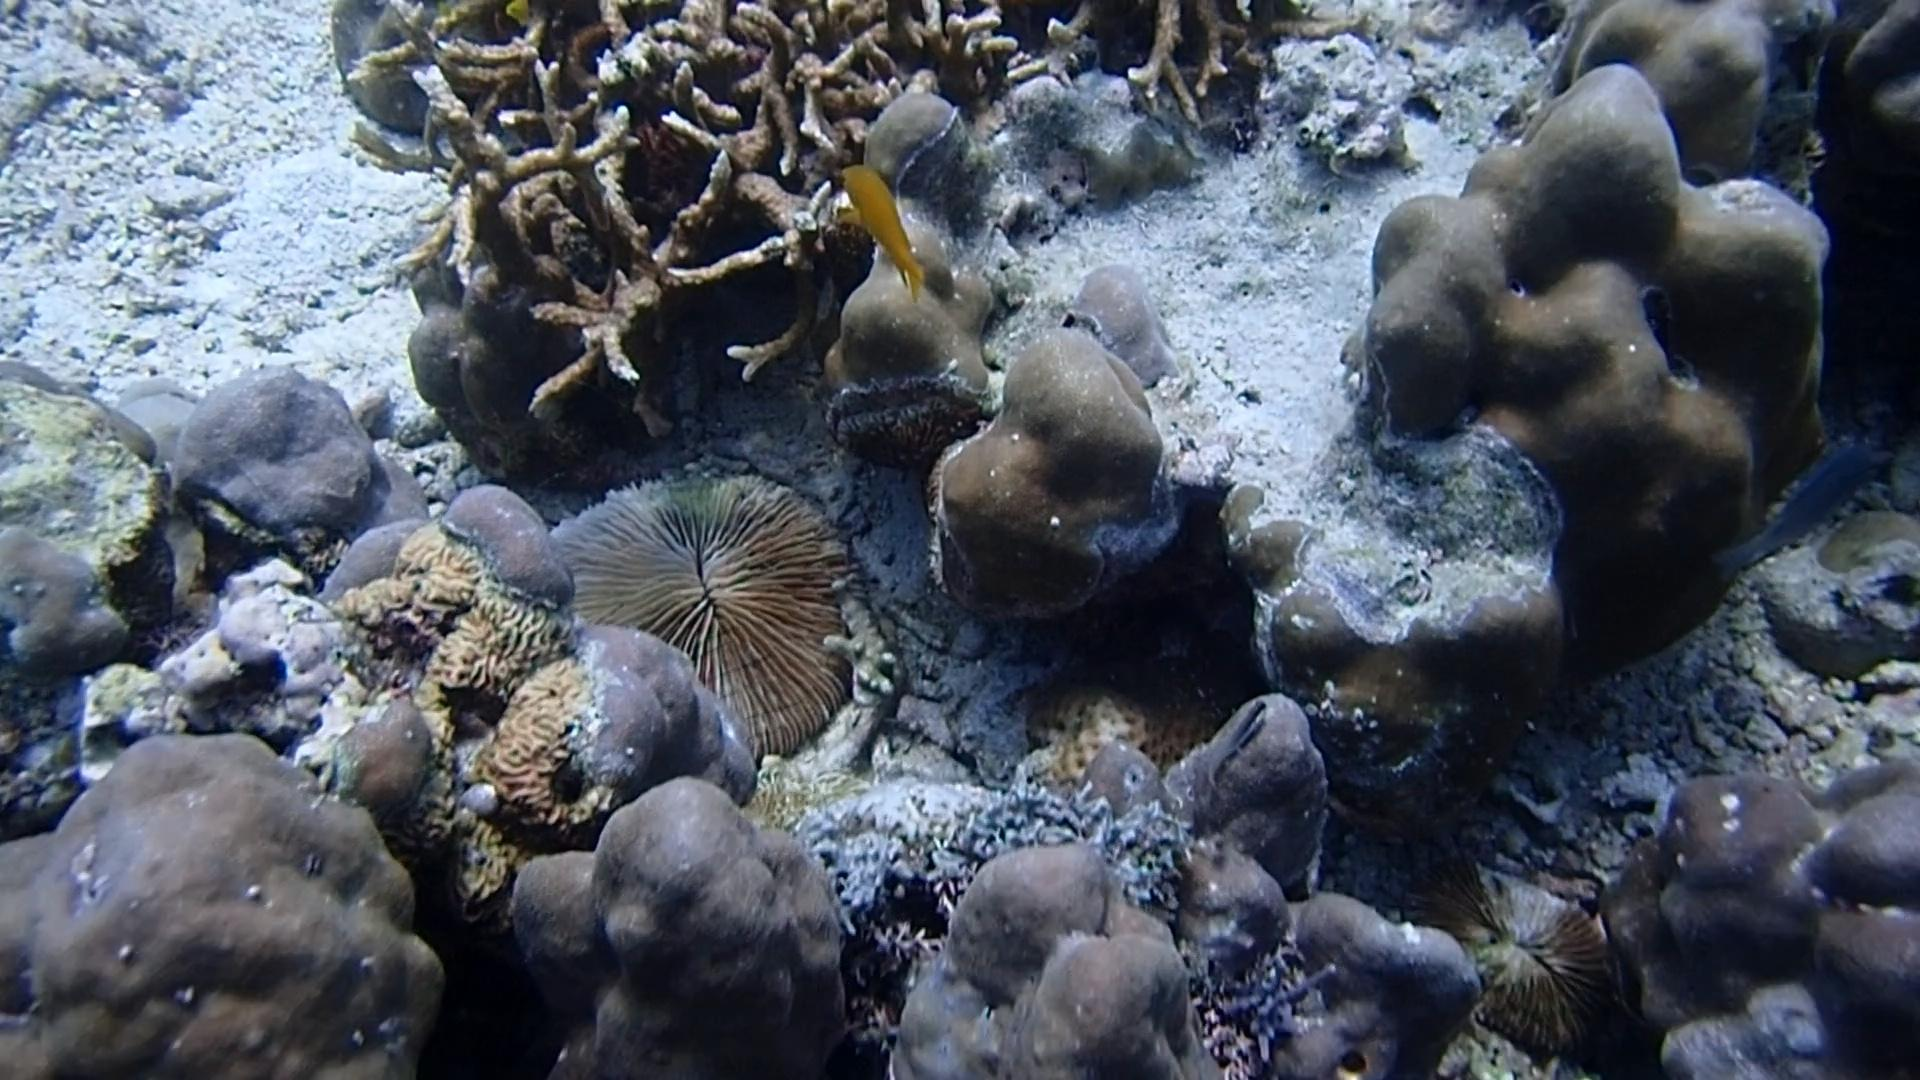Blue Fish Two: (1713, 433, 1892, 583)
Yellow Fish: (829, 154, 939, 299)
